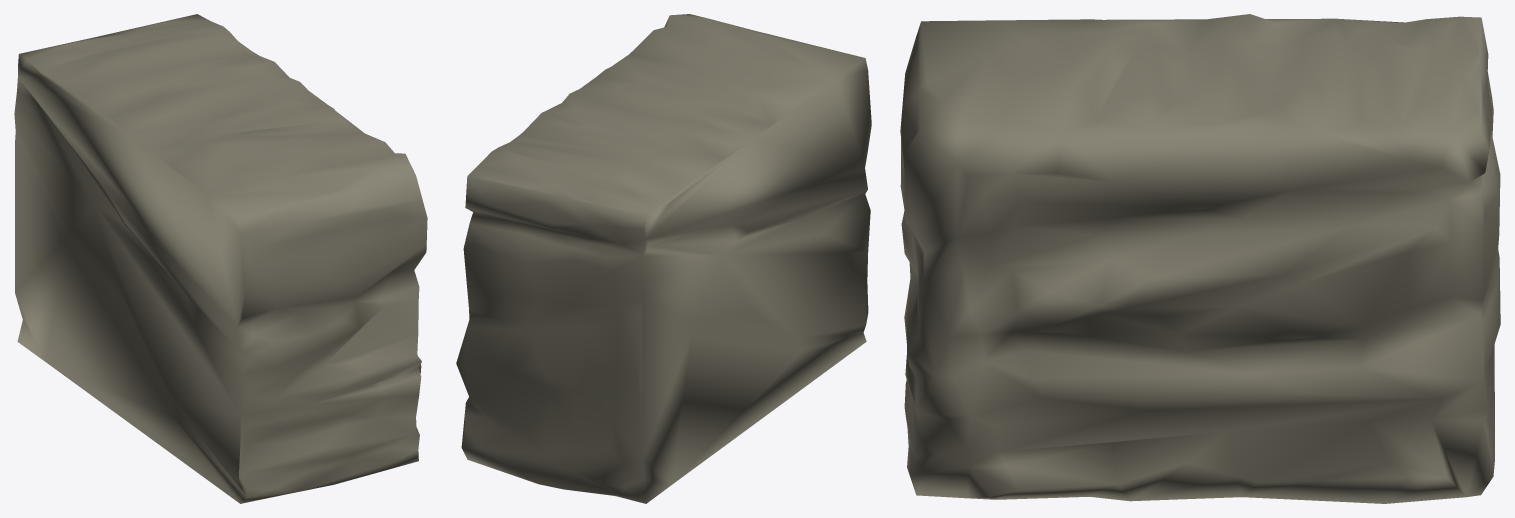
The model's file is Yorushika.obj.
The picture shows the model from 3 angles, left to right: view 1: azimuth 30°, elevation 25°; view 2: azimuth 150°, elevation 25°; view 3: azimuth 270°, elevation 25°; orthographic projection. The views are drawn at different scales.
Visible parts, largest first — view 1: Stone_Wall; view 2: Stone_Wall; view 3: Stone_Wall.
Part boxes in pixels (left/top/right/bottom): Stone_Wall: left=14, top=14, right=427, bottom=503; Stone_Wall: left=456, top=14, right=871, bottom=503; Stone_Wall: left=900, top=14, right=1500, bottom=503.
Size of the model in its own units: 11.45 by 15.77 by 22.5.
